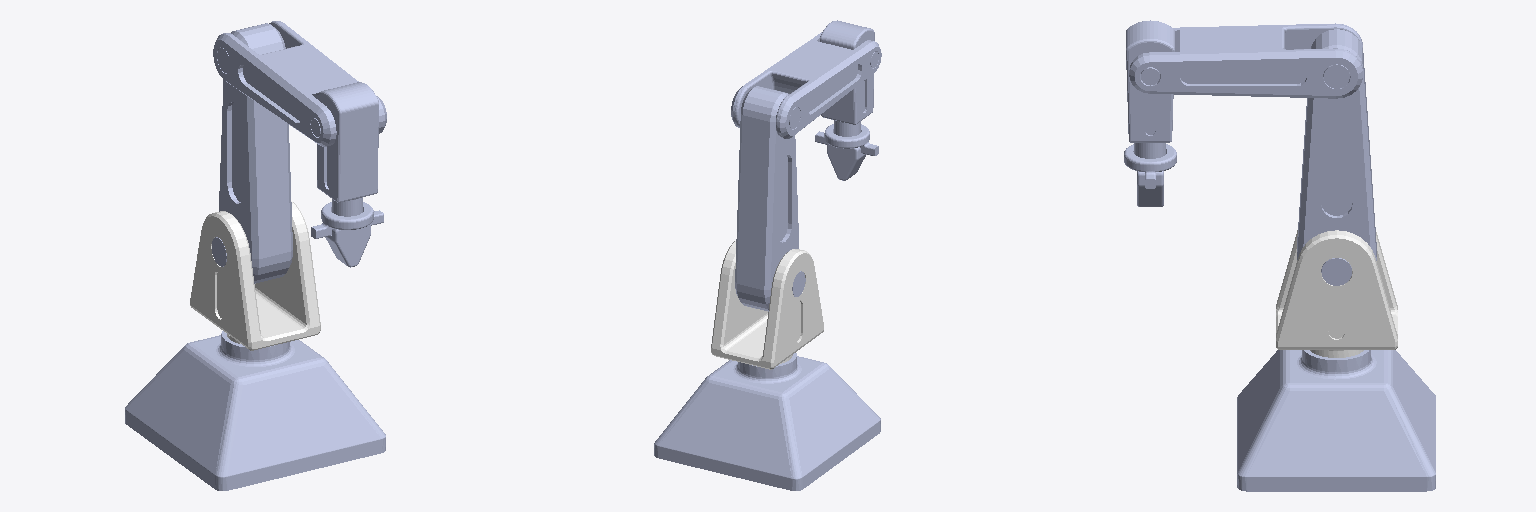
URDF robot description (Robotic_Arm_URDF):
<?xml version="1.0" encoding="utf-8"?>
<!-- This URDF was automatically created by SolidWorks to URDF Exporter! Originally created by [author] ([email redacted]) 
     Commit Version: 1.6.0-4-g7f85cfe  Build Version: 1.6.7995.38578
     For more information, please see http://wiki.ros.org/sw_urdf_exporter -->
<robot
  name="Robotic_Arm_URDF">
  <link
    name="base_link">
    <inertial>
      <origin
        xyz="8.7138E-17 -2.3039E-17 0.073876"
        rpy="0 0 0" />
      <mass
        value="17.147" />
      <inertia
        ixx="0.192"
        ixy="-4.9423E-10"
        ixz="4.7227E-17"
        iyy="0.192"
        iyz="2.8496E-18"
        izz="0.29544" />
    </inertial>
    <visual>
      <origin
        xyz="0 0 0"
        rpy="0 0 0" />
      <geometry>
        <mesh
          filename="package://Robotic_Arm_URDF/meshes/base_link.STL" />
      </geometry>
      <material
        name="">
        <color
          rgba="0.79216 0.81961 0.93333 1" />
      </material>
    </visual>
    <collision>
      <origin
        xyz="0 0 0"
        rpy="0 0 0" />
      <geometry>
        <mesh
          filename="package://Robotic_Arm_URDF/meshes/base_link.STL" />
      </geometry>
    </collision>
  </link>
  <link
    name="Link_1">
    <inertial>
      <origin
        xyz="-2.5714E-14 0.11047 -7.8988E-11"
        rpy="0 0 0" />
      <mass
        value="3.0905" />
      <inertia
        ixx="0.026302"
        ixy="-2.5306E-15"
        ixz="-1.4177E-12"
        iyy="0.019632"
        iyz="-7.4535E-12"
        izz="0.025388" />
    </inertial>
    <visual>
      <origin
        xyz="0 0 0"
        rpy="0 0 0" />
      <geometry>
        <mesh
          filename="package://Robotic_Arm_URDF/meshes/Link_1.STL" />
      </geometry>
      <material
        name="">
        <color
          rgba="1 1 1 1" />
      </material>
    </visual>
    <collision>
      <origin
        xyz="0 0 0"
        rpy="0 0 0" />
      <geometry>
        <mesh
          filename="package://Robotic_Arm_URDF/meshes/Link_1.STL" />
      </geometry>
    </collision>
  </link>
  <joint
    name="Joint_1"
    type="revolute">
    <origin
      xyz="0 0 0.2"
      rpy="1.5708 0 1.5708" />
    <parent
      link="base_link" />
    <child
      link="Link_1" />
    <axis
      xyz="0 1 0" />
    <limit
      lower="0"
      upper="3.142"
      effort="300"
      velocity="3" />
  </joint>
  <link
    name="Link_2">
    <inertial>
      <origin
        xyz="1.7495E-17 -0.16752 -3.6581E-17"
        rpy="0 0 0" />
      <mass
        value="5.5867" />
      <inertia
        ixx="0.12632"
        ixy="1.2063E-17"
        ixz="-6.7457E-19"
        iyy="0.011401"
        iyz="-2.4824E-17"
        izz="0.12911" />
    </inertial>
    <visual>
      <origin
        xyz="0 0 0"
        rpy="0 0 0" />
      <geometry>
        <mesh
          filename="package://Robotic_Arm_URDF/meshes/Link_2.STL" />
      </geometry>
      <material
        name="">
        <color
          rgba="0.79216 0.81961 0.93333 1" />
      </material>
    </visual>
    <collision>
      <origin
        xyz="0 0 0"
        rpy="0 0 0" />
      <geometry>
        <mesh
          filename="package://Robotic_Arm_URDF/meshes/Link_2.STL" />
      </geometry>
    </collision>
  </link>
  <joint
    name="Joint_2"
    type="revolute">
    <origin
      xyz="0 0.205 0"
      rpy="0 0 3.1416" />
    <parent
      link="Link_1" />
    <child
      link="Link_2" />
    <axis
      xyz="0 0 -1" />
    <limit
      lower="-1.57"
      upper="1.57"
      effort="200"
      velocity="3" />
  </joint>
  <link
    name="Link_3">
    <inertial>
      <origin
        xyz="-0.17893 -5.5511E-17 -2.572E-09"
        rpy="0 0 0" />
      <mass
        value="2.8262" />
      <inertia
        ixx="0.0074041"
        ixy="5.1257E-18"
        ixz="-2.5477E-10"
        iyy="0.028552"
        iyz="-3.4736E-10"
        izz="0.025128" />
    </inertial>
    <visual>
      <origin
        xyz="0 0 0"
        rpy="0 0 0" />
      <geometry>
        <mesh
          filename="package://Robotic_Arm_URDF/meshes/Link_3.STL" />
      </geometry>
      <material
        name="">
        <color
          rgba="0.79216 0.81961 0.93333 1" />
      </material>
    </visual>
    <collision>
      <origin
        xyz="0 0 0"
        rpy="0 0 0" />
      <geometry>
        <mesh
          filename="package://Robotic_Arm_URDF/meshes/Link_3.STL" />
      </geometry>
    </collision>
  </link>
  <joint
    name="Joint_3"
    type="revolute">
    <origin
      xyz="0 -0.4 0"
      rpy="0 0 3.1416" />
    <parent
      link="Link_2" />
    <child
      link="Link_3" />
    <axis
      xyz="0 0 -1" />
    <limit
      lower="0"
      upper="3.142"
      effort="200"
      velocity="3" />
  </joint>
  <link
    name="Link_4">
    <inertial>
      <origin
        xyz="-0.051672 0 1.701E-16"
        rpy="0 0 0" />
      <mass
        value="1.8097" />
      <inertia
        ixx="0.0023112"
        ixy="-3.9856E-18"
        ixz="-1.1552E-18"
        iyy="0.0096102"
        iyz="-9.2113E-19"
        izz="0.0093908" />
    </inertial>
    <visual>
      <origin
        xyz="0 0 0"
        rpy="0 0 0" />
      <geometry>
        <mesh
          filename="package://Robotic_Arm_URDF/meshes/Link_4.STL" />
      </geometry>
      <material
        name="">
        <color
          rgba="0.79216 0.81961 0.93333 1" />
      </material>
    </visual>
    <collision>
      <origin
        xyz="0 0 0"
        rpy="0 0 0" />
      <geometry>
        <mesh
          filename="package://Robotic_Arm_URDF/meshes/Link_4.STL" />
      </geometry>
    </collision>
  </link>
  <joint
    name="Joint_4"
    type="revolute">
    <origin
      xyz="-0.35 0 0"
      rpy="0 0 1.5708" />
    <parent
      link="Link_3" />
    <child
      link="Link_4" />
    <axis
      xyz="0 0 1" />
    <limit
      lower="0"
      upper="-3.142"
      effort="200"
      velocity="3" />
  </joint>
  <link
    name="Link_5">
    <inertial>
      <origin
        xyz="-0.018544 0 1.5428E-16"
        rpy="0 0 0" />
      <mass
        value="0.19053" />
      <inertia
        ixx="0.00030197"
        ixy="3.1871E-20"
        ixz="-7.894E-21"
        iyy="0.00022817"
        iyz="-1.9664E-11"
        izz="0.00011843" />
    </inertial>
    <visual>
      <origin
        xyz="0 0 0"
        rpy="0 0 0" />
      <geometry>
        <mesh
          filename="package://Robotic_Arm_URDF/meshes/Link_5.STL" />
      </geometry>
      <material
        name="">
        <color
          rgba="0.79216 0.81961 0.93333 1" />
      </material>
    </visual>
    <collision>
      <origin
        xyz="0 0 0"
        rpy="0 0 0" />
      <geometry>
        <mesh
          filename="package://Robotic_Arm_URDF/meshes/Link_5.STL" />
      </geometry>
    </collision>
  </link>
  <joint
    name="Joint_5"
    type="revolute">
    <origin
      xyz="-0.188 0 0"
      rpy="0 0 0" />
    <parent
      link="Link_4" />
    <child
      link="Link_5" />
    <axis
      xyz="1 0 0" />
    <limit
      lower="0"
      upper="3.142"
      effort="200"
      velocity="3" />
  </joint>
  <link
    name="Link_6">
    <inertial>
      <origin
        xyz="-0.60237 0.4 -0.016013"
        rpy="0 0 0" />
      <mass
        value="0.11653" />
      <inertia
        ixx="3.9246E-05"
        ixy="4.2439E-20"
        ixz="1.0258E-05"
        iyy="7.1189E-05"
        iyz="4.9247E-20"
        izz="8.4875E-05" />
    </inertial>
    <visual>
      <origin
        xyz="0 0 0"
        rpy="0 0 0" />
      <geometry>
        <mesh
          filename="package://Robotic_Arm_URDF/meshes/Link_6.STL" />
      </geometry>
      <material
        name="">
        <color
          rgba="0.79216 0.81961 0.93333 1" />
      </material>
    </visual>
    <collision>
      <origin
        xyz="0 0 0"
        rpy="0 0 0" />
      <geometry>
        <mesh
          filename="package://Robotic_Arm_URDF/meshes/Link_6.STL" />
      </geometry>
    </collision>
  </link>
  <joint
    name="Joint_6"
    type="prismatic">
    <origin
      xyz="0.54 0.4 0"
      rpy="3.1416 0 0" />
    <parent
      link="Link_5" />
    <child
      link="Link_6" />
    <axis
      xyz="0 0 1" />
    <limit
      lower="0"
      upper="0.03"
      effort="100"
      velocity="3" />
  </joint>
  <link
    name="Link_7">
    <inertial>
      <origin
        xyz="-0.60237 0.4 -0.016013"
        rpy="0 0 0" />
      <mass
        value="0.11653" />
      <inertia
        ixx="3.9246E-05"
        ixy="1.2527E-19"
        ixz="1.0258E-05"
        iyy="7.1189E-05"
        iyz="-5.8458E-20"
        izz="8.4875E-05" />
    </inertial>
    <visual>
      <origin
        xyz="0 0 0"
        rpy="0 0 0" />
      <geometry>
        <mesh
          filename="package://Robotic_Arm_URDF/meshes/Link_7.STL" />
      </geometry>
      <material
        name="">
        <color
          rgba="0.79216 0.81961 0.93333 1" />
      </material>
    </visual>
    <collision>
      <origin
        xyz="0 0 0"
        rpy="0 0 0" />
      <geometry>
        <mesh
          filename="package://Robotic_Arm_URDF/meshes/Link_7.STL" />
      </geometry>
    </collision>
  </link>
  <joint
    name="Joint_7"
    type="prismatic">
    <origin
      xyz="0.54 -0.4 0"
      rpy="0 0 0" />
    <parent
      link="Link_5" />
    <child
      link="Link_7" />
    <axis
      xyz="0 0 -1" />
    <limit
      lower="-0.03"
      upper="0"
      effort="100"
      velocity="3" />
  </joint>
</robot>

--- What the picture shows (computed from the rendered views, not written in the file) ---
The picture shows the robot from 3 angles, left to right: view 1: azimuth 30°, elevation 25°; view 2: azimuth 150°, elevation 25°; view 3: azimuth 270°, elevation 25°; orthographic projection.
Robot: Robotic_Arm_URDF — 8 links, 7 joints (5 revolute, 2 prismatic); root link base_link; default pose: all joints at 0.
Links seen in each view (by area): view 1: base_link, Link_2, Link_1, Link_3, Link_4, Link_5, Link_7; view 2: base_link, Link_2, Link_1, Link_3, Link_4, Link_5, Link_7; view 3: base_link, Link_3, Link_2, Link_1, Link_4, Link_5, Link_6.
Link boxes in pixels (x1,y1,x2,y2): base_link: (125, 331, 385, 490); Link_2: (212, 23, 292, 283); Link_1: (190, 201, 320, 350); Link_3: (213, 21, 386, 146); Link_4: (311, 82, 378, 216); Link_5: (311, 202, 383, 238); Link_7: (325, 228, 353, 267); base_link: (654, 353, 880, 490); Link_2: (735, 86, 805, 311); Link_1: (711, 241, 823, 369); Link_3: (731, 32, 881, 138); Link_4: (820, 20, 878, 136); Link_5: (815, 124, 878, 155); Link_7: (842, 147, 865, 180); base_link: (1237, 350, 1435, 491); Link_3: (1129, 23, 1362, 98); Link_2: (1297, 29, 1376, 285); Link_1: (1276, 230, 1397, 357); Link_4: (1126, 20, 1174, 158); Link_5: (1124, 144, 1176, 188); Link_6: (1137, 171, 1163, 206).
Size in the robot's own frame: 0.3732 by 0.5866 by 0.87 metres.
Meshes: 8 distinct files referenced, 8 mesh visuals loaded (8 binary STL).